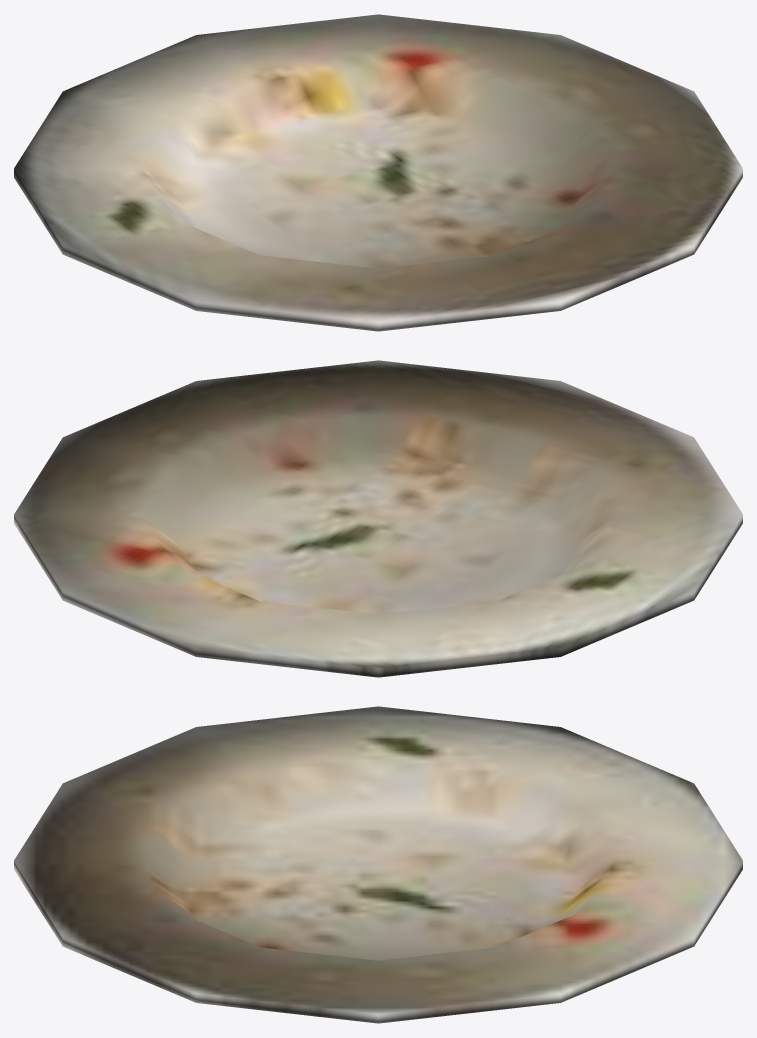
The model's file is plate_3.FBX.
The picture shows the model from 3 angles, top to bottom: view 1: azimuth 30°, elevation 25°; view 2: azimuth 150°, elevation 25°; view 3: azimuth 270°, elevation 25°; orthographic projection.
Visible parts, largest first — view 1: plate_1; view 2: plate_1; view 3: plate_1.
Boxes of the visible parts, x1,y1,x2,y2 form: plate_1: (14, 14, 742, 331); plate_1: (14, 360, 742, 677); plate_1: (14, 706, 742, 1023).
Size of the model in its own units: 13.86 by 0.6683 by 13.86.
